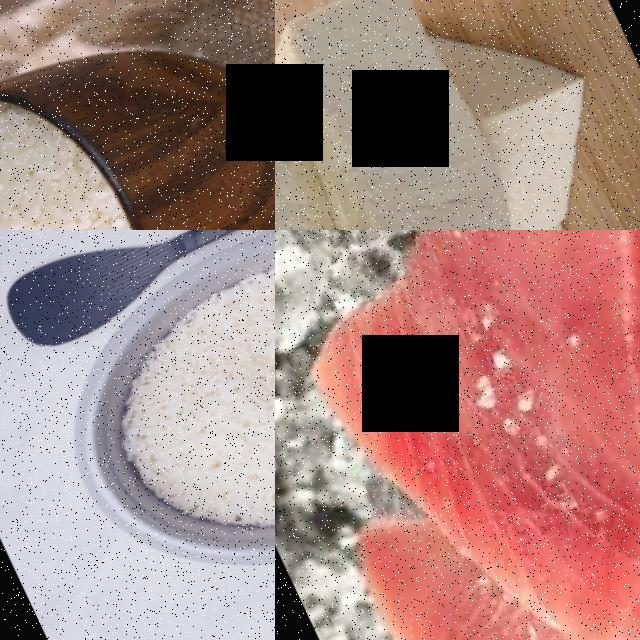tofu: (275, 0, 551, 230), (275, 76, 419, 230)
tuna: (309, 230, 640, 640)
white rice: (121, 230, 275, 554), (0, 71, 182, 230)
